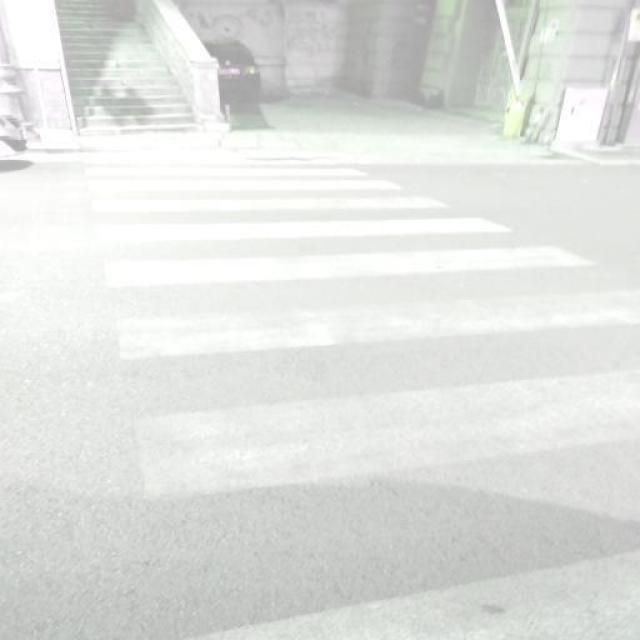crosswalk: (95, 164, 640, 640)
